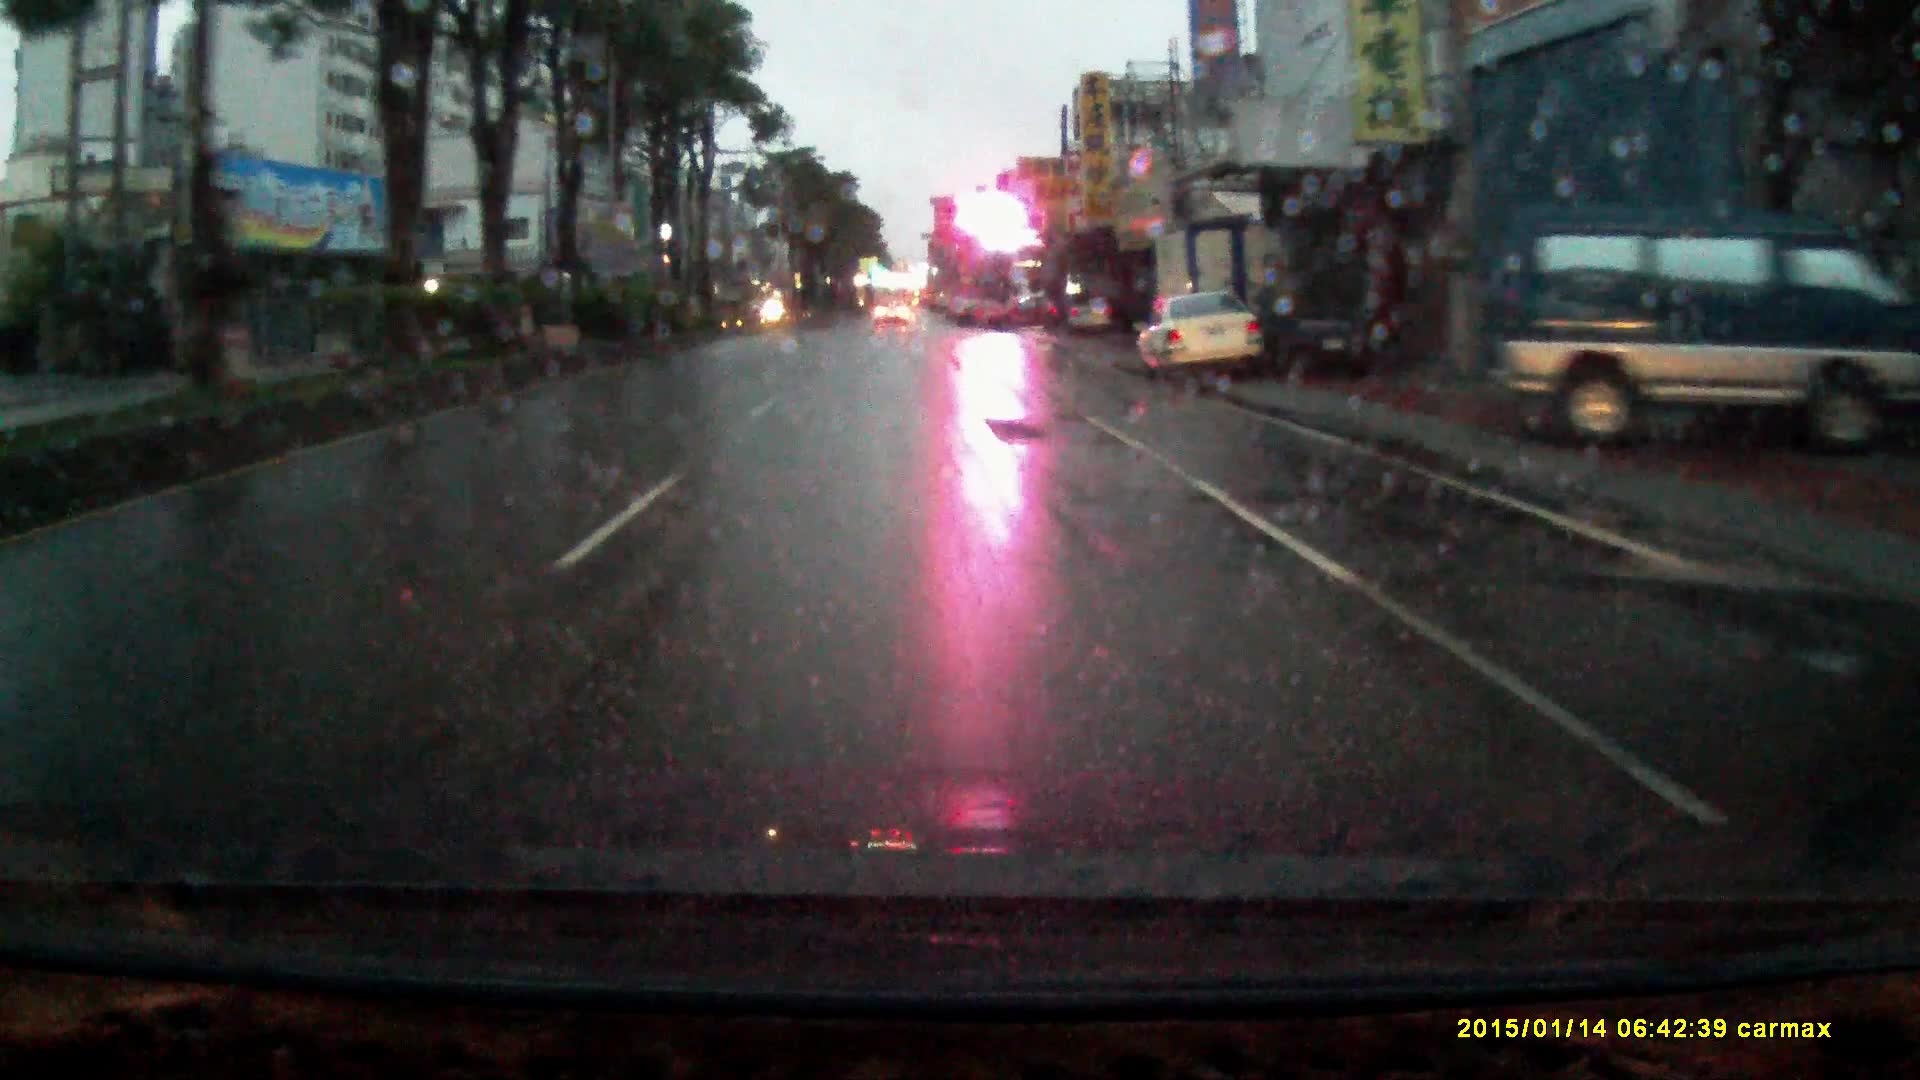vehicle: (1501, 199, 1866, 456), (1142, 218, 1300, 382), (1134, 285, 1273, 382), (980, 287, 1059, 330), (1059, 289, 1116, 335), (876, 298, 910, 328)
